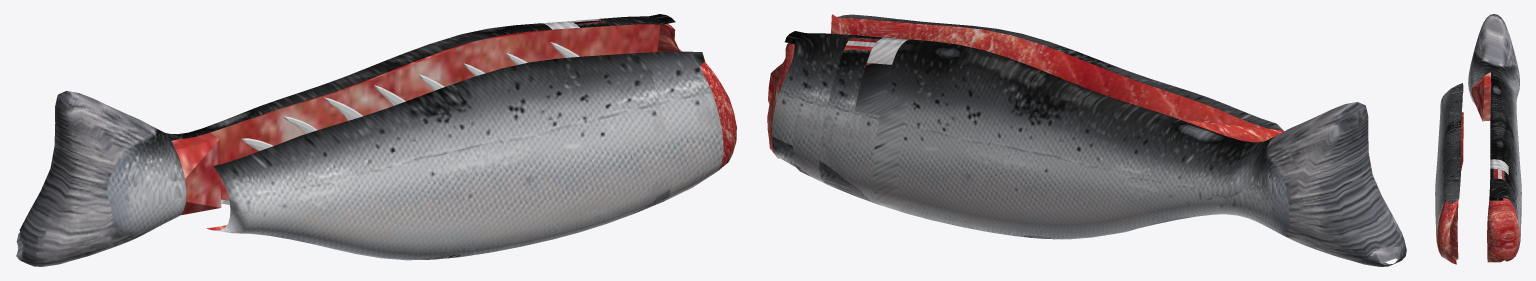
3 renders of one model, left to right at view 1: azimuth 30°, elevation 25°; view 2: azimuth 150°, elevation 25°; view 3: azimuth 270°, elevation 25°, orthographic. The views are drawn at different scales.
Parts seen in each view (by area): view 1: prototype.010, prototype.014, prototype.012, Knogle.003; view 2: prototype.014, prototype.010; view 3: prototype.014, prototype.010, prototype.012.
Boxes of the visible parts, x1,y1,x2,y2 form: prototype.010: [206, 51, 736, 260]; prototype.014: [16, 14, 681, 266]; prototype.012: [171, 21, 660, 215]; Knogle.003: [242, 42, 579, 150]; prototype.014: [767, 31, 1406, 266]; prototype.010: [831, 14, 1283, 141]; prototype.014: [1468, 14, 1521, 262]; prototype.010: [1435, 83, 1463, 264]; prototype.012: [1471, 72, 1508, 180].
Size of the model in its own units: 666 by 211 by 148.
